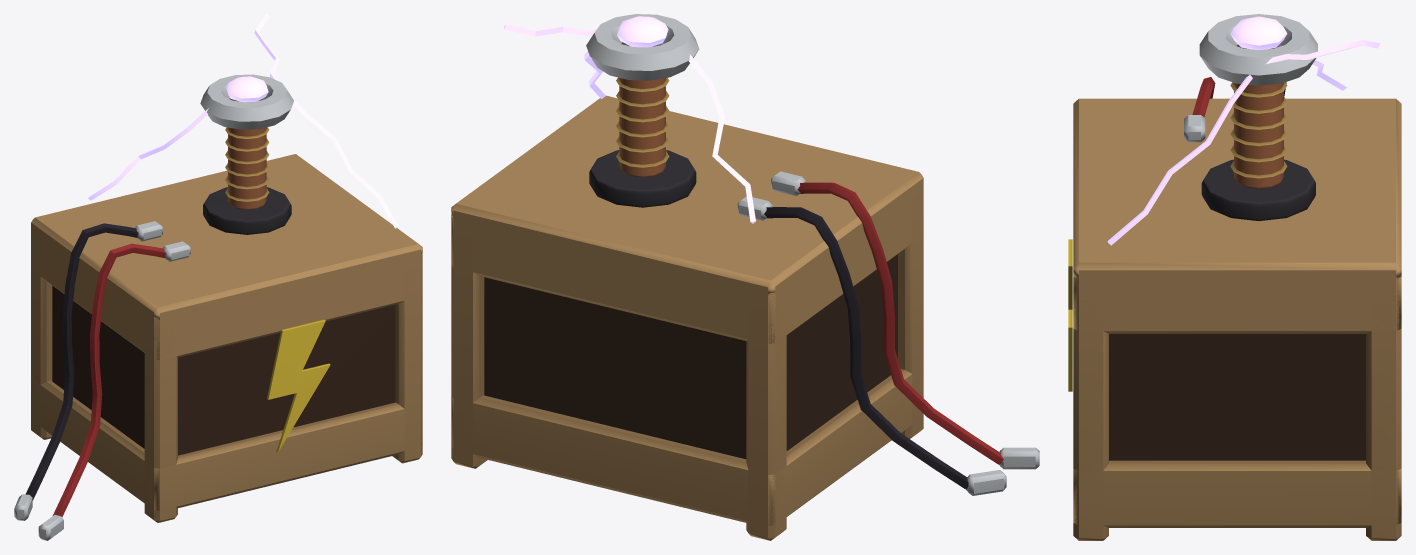
The model's file is kit_reanimation.glb.
3 views of the same model, side by side, from view 1: azimuth 30°, elevation 25°; view 2: azimuth 150°, elevation 25°; view 3: azimuth 270°, elevation 25° (orthographic). The views are drawn at different scales.
Parts seen in each view (by area): view 1: kit_reanimation, glow; view 2: kit_reanimation, glow; view 3: kit_reanimation, glow.
Boxes of the visible parts, left/top/right/bottom form: kit_reanimation: left=14, top=74, right=422, bottom=540; glow: left=88, top=14, right=398, bottom=228; kit_reanimation: left=451, top=14, right=1039, bottom=540; glow: left=504, top=16, right=755, bottom=223; kit_reanimation: left=1068, top=14, right=1401, bottom=540; glow: left=1107, top=16, right=1382, bottom=245.
Size of the model in its own units: 0.7792 by 0.7347 by 0.467.
